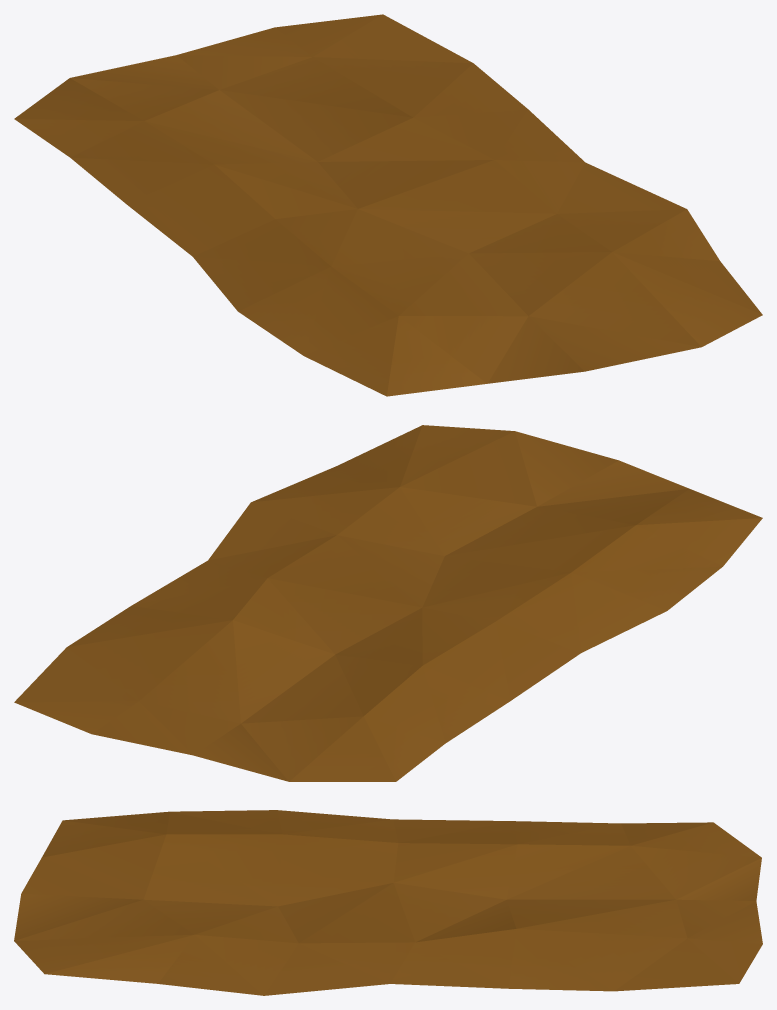
Rendered from cGround_A_9.fbx.
The picture shows the model from 3 angles, top to bottom: view 1: azimuth 30°, elevation 25°; view 2: azimuth 150°, elevation 25°; view 3: azimuth 270°, elevation 25°; orthographic projection. The views are drawn at different scales.
Parts seen in each view (by area): view 1: cGround_A_9; view 2: cGround_A_9; view 3: cGround_A_9.
Boxes of the visible parts, x1=… form: cGround_A_9: x1=14, y1=14, x2=762, y2=396; cGround_A_9: x1=14, y1=425, x2=762, y2=781; cGround_A_9: x1=14, y1=810, x2=762, y2=995.
Size of the model in its own units: 1009 by 41.33 by 1718.
